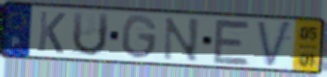E: (211, 17, 253, 67)
G: (120, 13, 160, 61)
K: (36, 9, 68, 56)
N: (160, 16, 201, 64)
U: (70, 10, 111, 58)
V: (255, 19, 294, 70)
